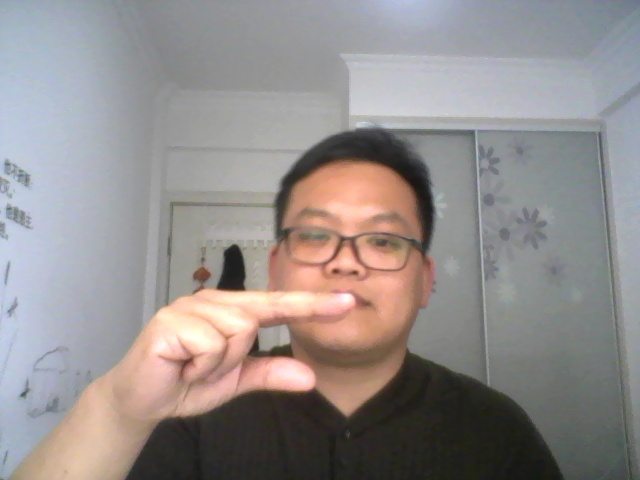No: (88, 286, 366, 417)
